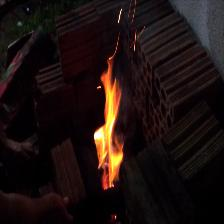fire: (72, 28, 149, 214)
